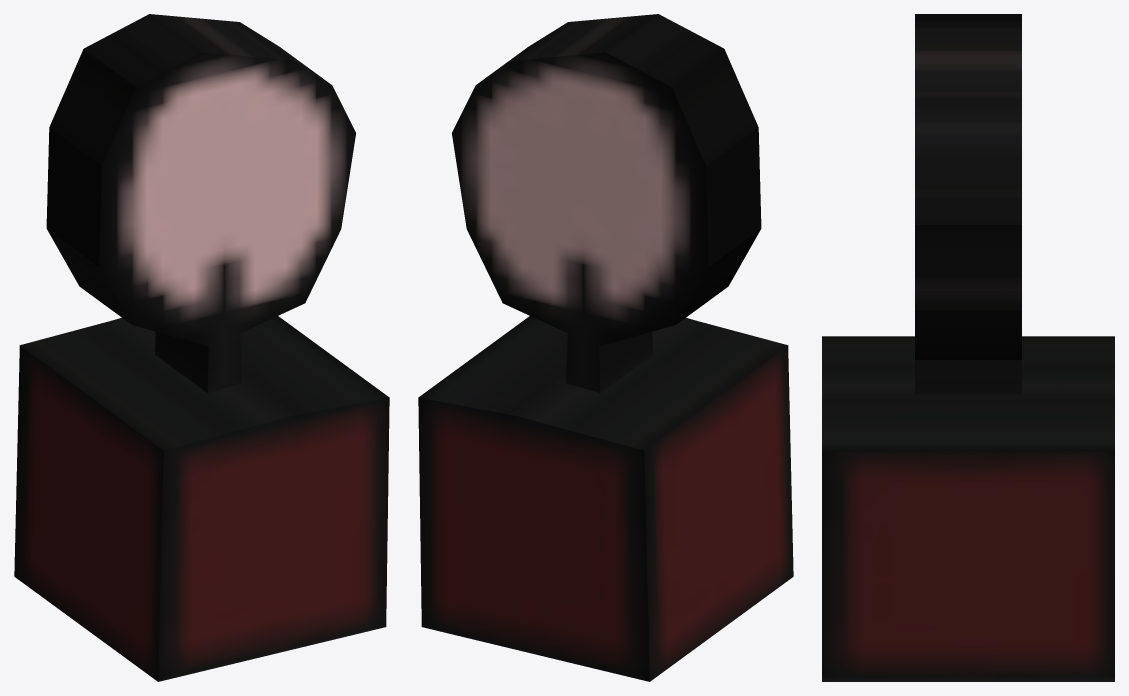
File: mano_Valigia.fbx
3 views of the same model, side by side, from view 1: azimuth 30°, elevation 25°; view 2: azimuth 150°, elevation 25°; view 3: azimuth 270°, elevation 25° (orthographic).
Parts seen in each view (by area): view 1: polySurface31; view 2: polySurface31; view 3: polySurface31.
Boxes of the visible parts, x1,y1,x2,y2 form: polySurface31: (14, 14, 389, 681); polySurface31: (418, 14, 793, 681); polySurface31: (822, 14, 1114, 681).
Bounding box in the file's own units: 0.111 × 0.2372 × 0.1075.
